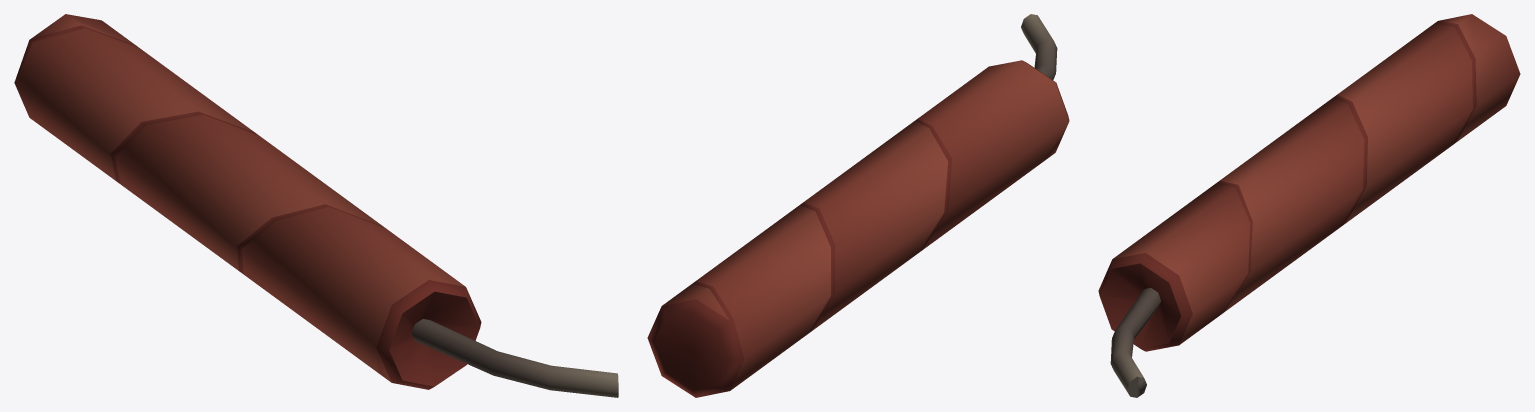
Rendered from human-tools-dynamite_v1.glb.
3 renders of one model, left to right at view 1: azimuth 30°, elevation 25°; view 2: azimuth 150°, elevation 25°; view 3: azimuth 330°, elevation 25°, orthographic. The views are drawn at different scales.
Parts seen in each view (by area): view 1: Dynamite; view 2: Dynamite; view 3: Dynamite.
Boxes of the visible parts, left/top/right/bottom form: Dynamite: left=14, top=14, right=618, bottom=397; Dynamite: left=647, top=14, right=1069, bottom=397; Dynamite: left=1098, top=14, right=1520, bottom=397.
Size of the model in its own units: 0.0361 by 0.0257 by 0.2.
